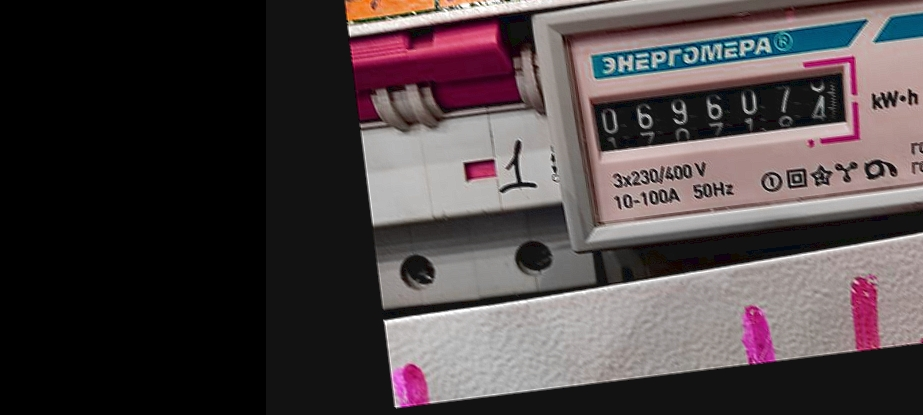0: (597, 103, 621, 135), (737, 85, 760, 116)
4: (806, 92, 828, 123)
6: (702, 89, 725, 123), (632, 99, 655, 130)
7: (772, 80, 794, 113)
9: (667, 95, 690, 126)
screen: (576, 48, 868, 173)
